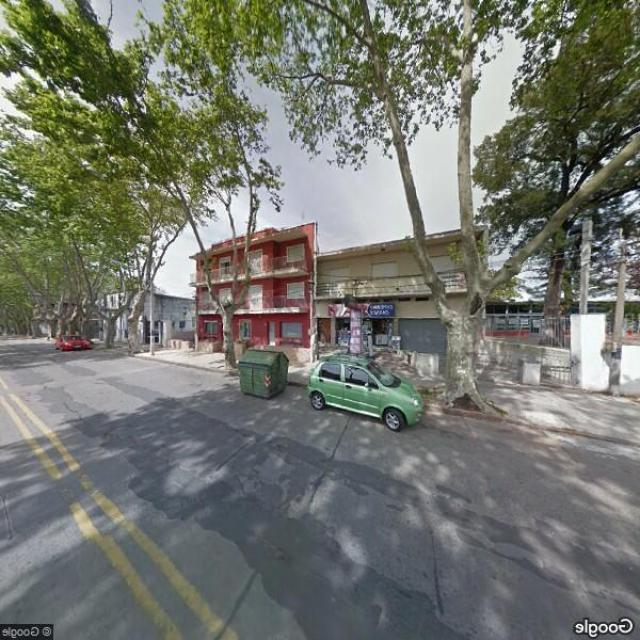garbage container: (232, 343, 294, 408)
